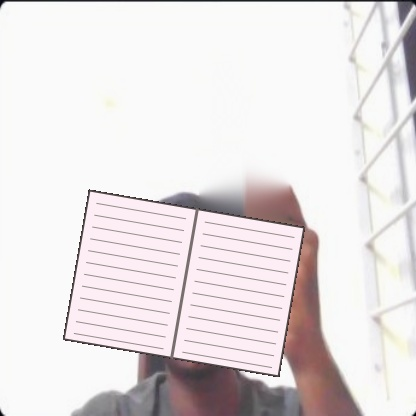book: (63, 189, 305, 377)
